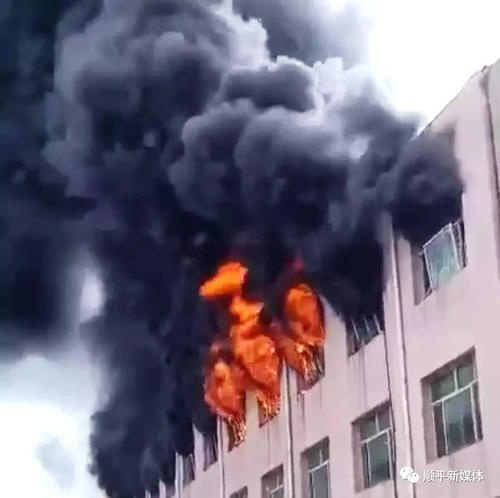fire: (201, 260, 324, 426)
